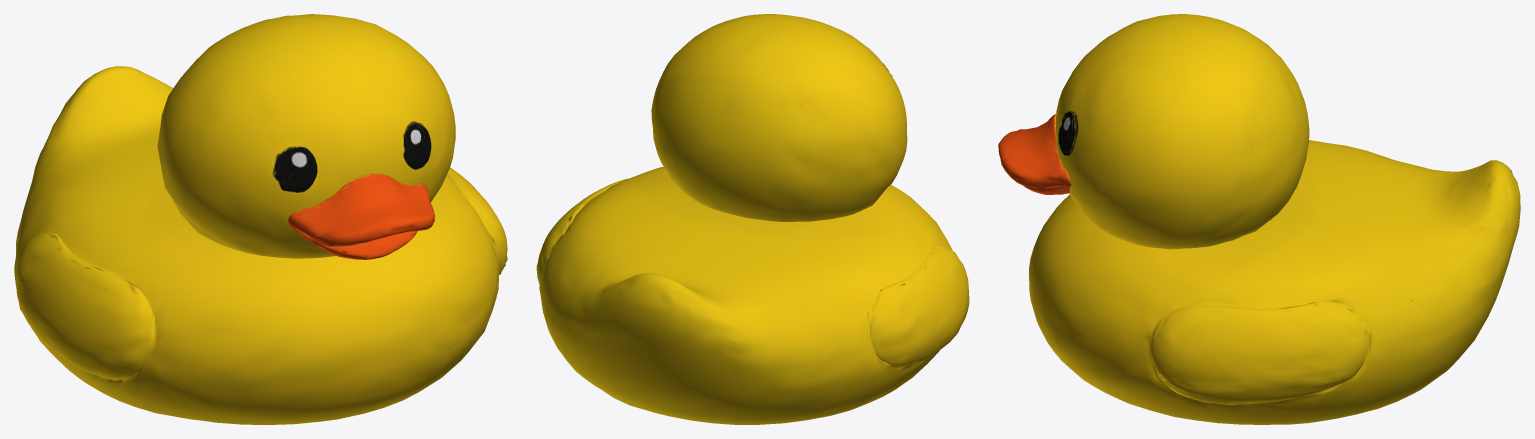
The model's file is rubber-duck.glb.
3 views of the same model, side by side, from view 1: azimuth 30°, elevation 25°; view 2: azimuth 150°, elevation 25°; view 3: azimuth 270°, elevation 25° (orthographic). The views are drawn at different scales.
Bounding box in the file's own units: 0.8667 × 0.6597 × 0.9556.
Materials: 1 (1 with a texture image).
